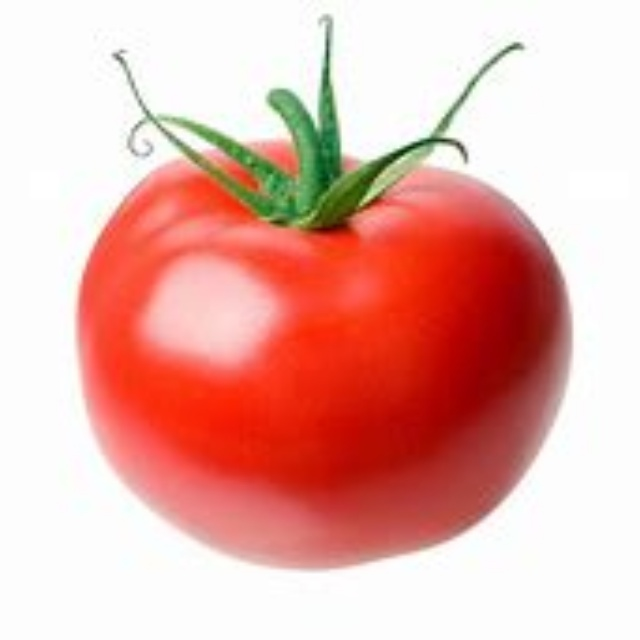tomato: (55, 61, 575, 571)
